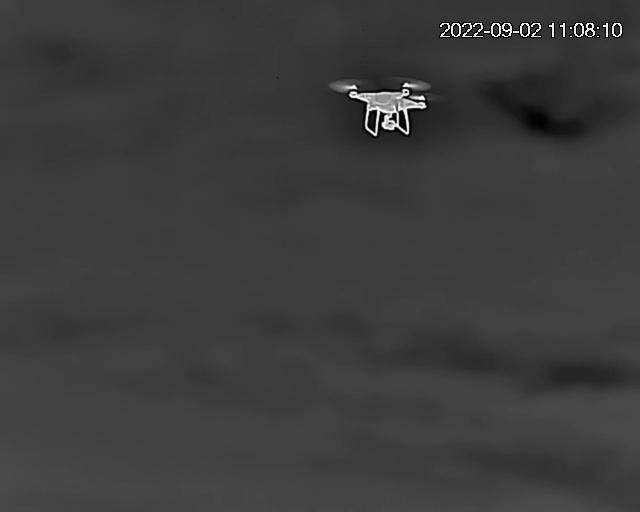DJI-Phantom: (340, 70, 434, 138)
